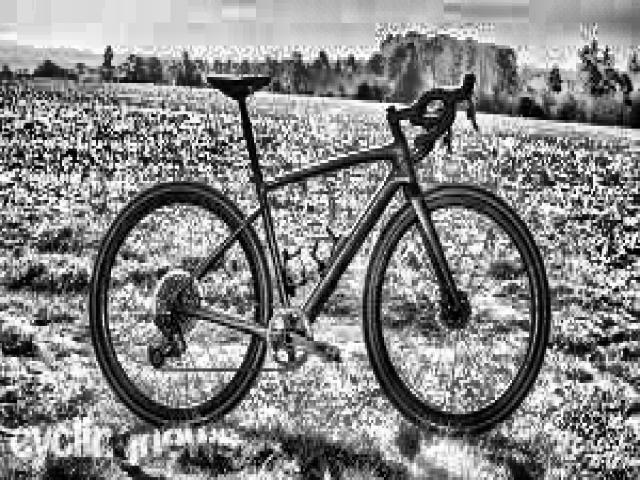cranks_set: (265, 306, 340, 371)
rear_derailleur: (146, 307, 189, 368)
saddle: (206, 70, 273, 102)
sti_shifter: (460, 67, 482, 132)
wheel: (362, 186, 551, 438), (86, 180, 268, 428)
